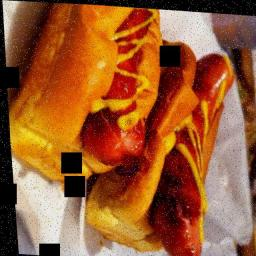hotdog: (149, 48, 248, 256), (80, 3, 165, 179)
